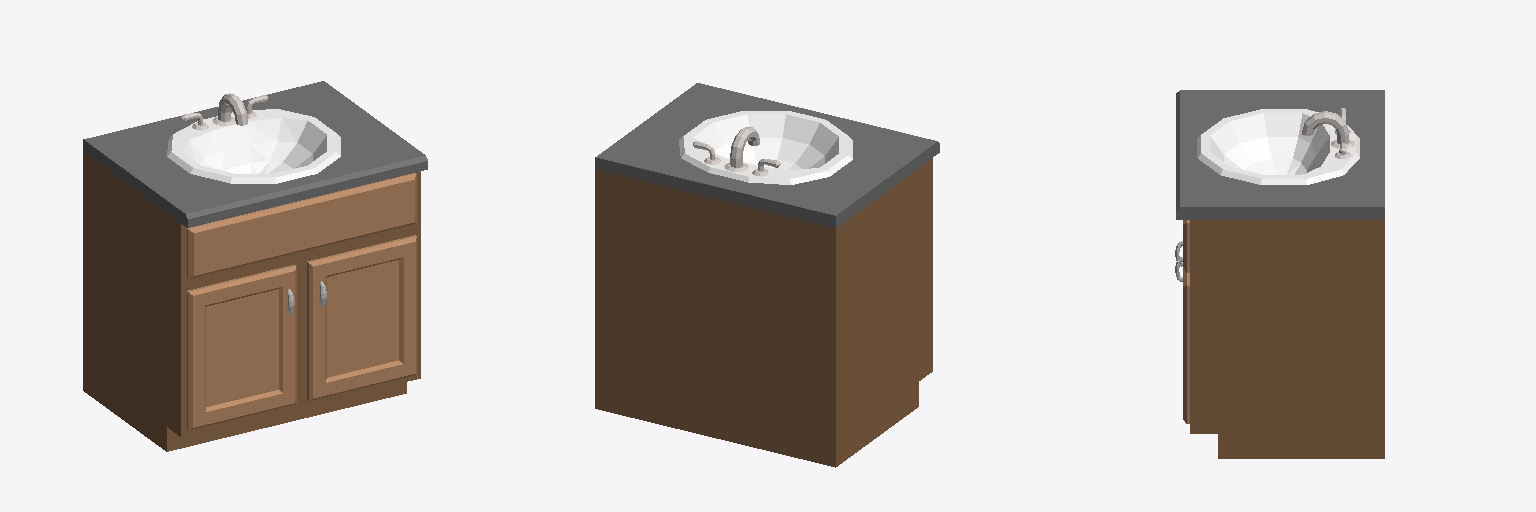
Rendered from Bathroom_Cabinet_Sink.obj.
The picture shows the model from 3 angles: view 1: azimuth 30°, elevation 25°; view 2: azimuth 150°, elevation 25°; view 3: azimuth 270°, elevation 25°; orthographic projection.
Parts seen in each view (by area): view 1: object1, object3, object6, object7, object10, object5; view 2: object1, object3, object10, object5; view 3: object1, object3, object10, object7, object5.
Part boxes in pixels (x1,y1,x2,y2): object1: (83,152,420,451); object3: (83,81,427,227); object6: (187,265,296,430); object7: (307,235,416,400); object10: (167,109,340,183); object5: (212,93,247,125); object1: (595,158,932,467); object3: (595,83,939,227); object10: (679,111,852,184); object5: (724,127,759,171); object1: (1183,220,1384,458); object3: (1176,90,1384,219); object10: (1197,109,1359,184); object7: (1183,268,1189,423); object5: (1302,111,1354,148).
Size of the model in its own units: 1 by 1.14 by 0.7531.